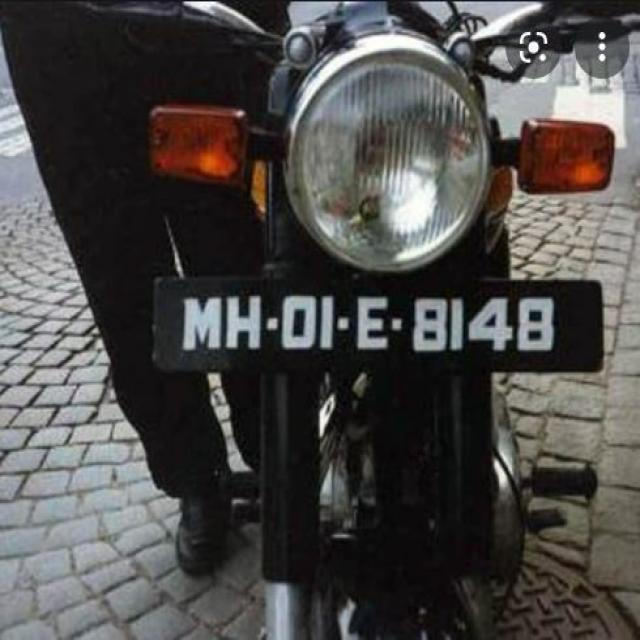license_plate: (149, 271, 605, 375)
